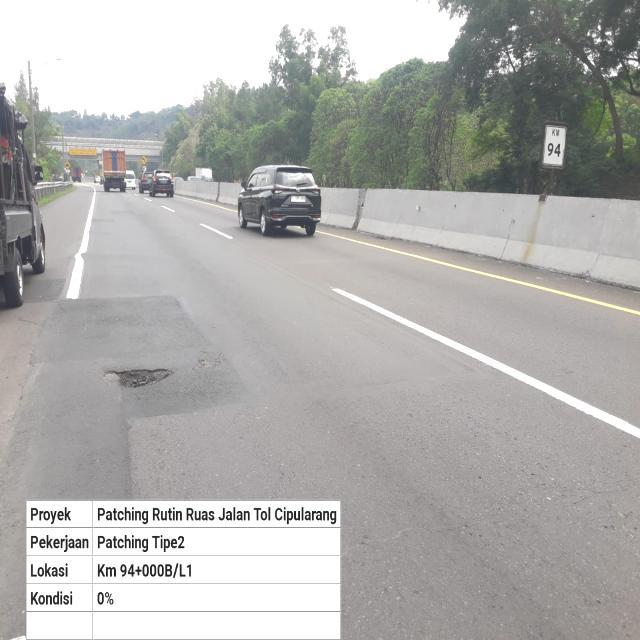Buraco: (100, 367, 177, 390)
